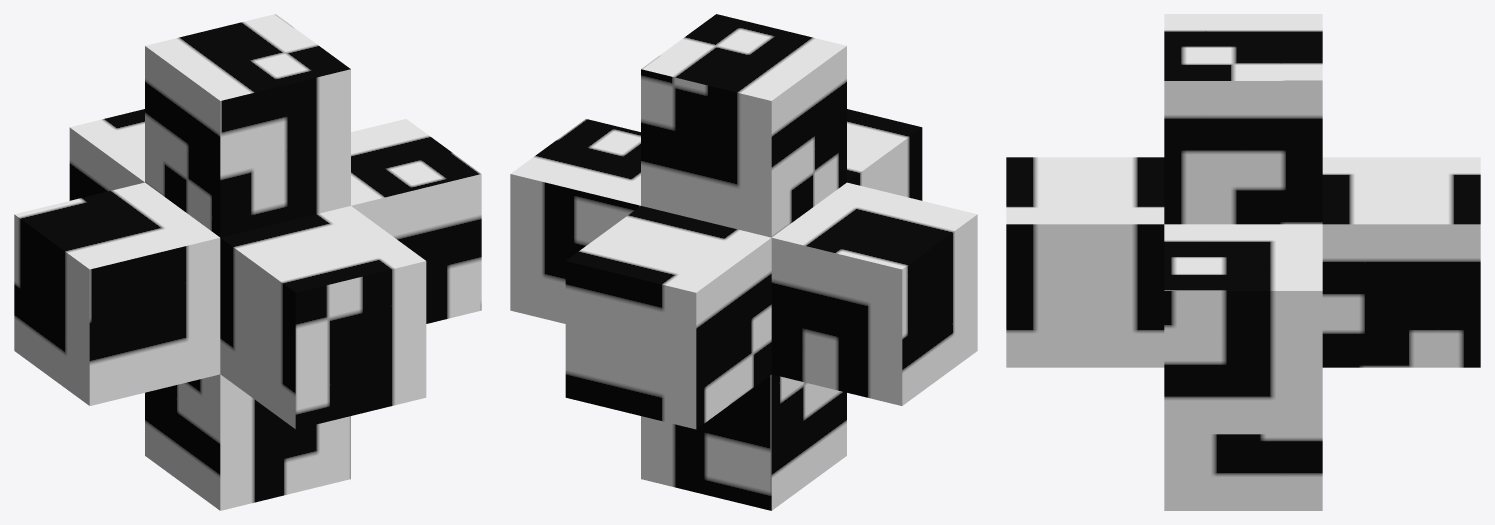
3 renders of one model, left to right at view 1: azimuth 30°, elevation 25°; view 2: azimuth 150°, elevation 25°; view 3: azimuth 270°, elevation 25°, orthographic. The views are drawn at different scales.
Bounding box in the file's own units: 0.072 × 0.072 × 0.072.
